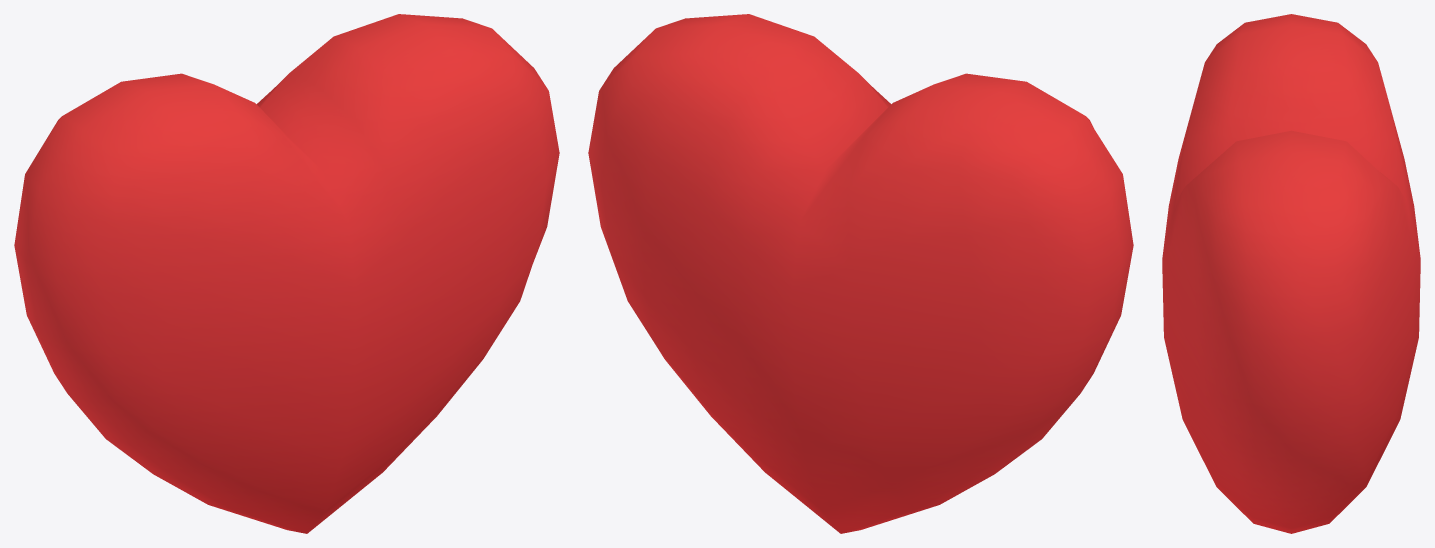
The model's file is heart_001.glb.
3 views of the same model, side by side, from view 1: azimuth 30°, elevation 25°; view 2: azimuth 150°, elevation 25°; view 3: azimuth 270°, elevation 25° (orthographic). The views are drawn at different scales.
Parts seen in each view (by area): view 1: heart_001; view 2: heart_001; view 3: heart_001.
Boxes of the visible parts, x1=… form: heart_001: x1=14, y1=14, x2=559, y2=533; heart_001: x1=588, y1=14, x2=1133, y2=533; heart_001: x1=1162, y1=14, x2=1420, y2=533.
Size of the model in its own units: 1.49 by 1.29 by 0.6792.
Materials: 1 (1 with a texture image).
